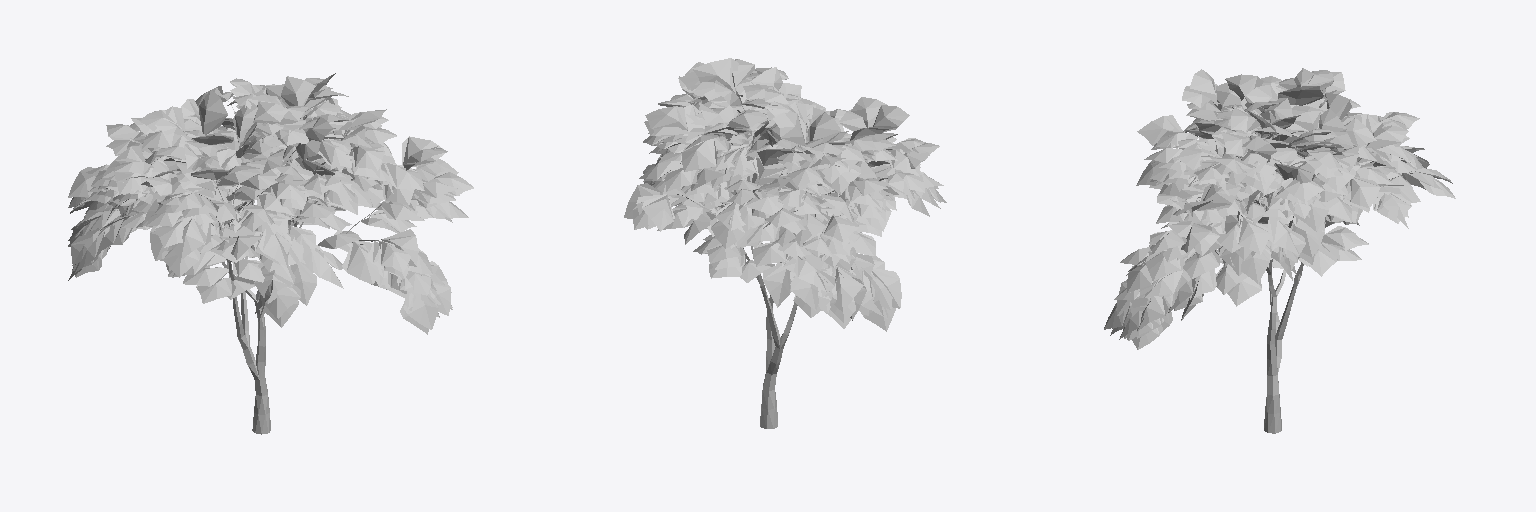
The model's file is tree10.obj.
3 views of the same model, side by side, from view 1: azimuth 30°, elevation 25°; view 2: azimuth 150°, elevation 25°; view 3: azimuth 270°, elevation 25° (orthographic).
Size of the model in its own units: 7.36 by 7.74 by 7.18.